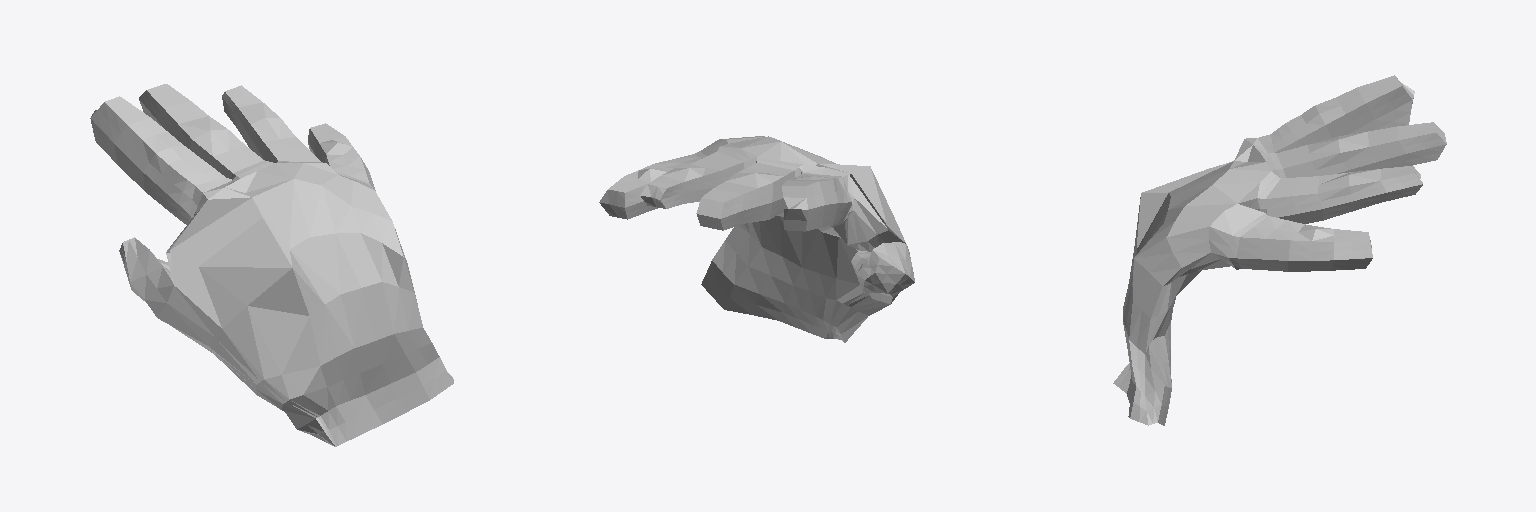
File: flexion0034.obj
3 renders of one model, left to right at view 1: azimuth 30°, elevation 25°; view 2: azimuth 150°, elevation 25°; view 3: azimuth 270°, elevation 25°, orthographic.
Visible parts, largest first — view 1: Hand; view 2: Hand; view 3: Hand.
Boxes of the visible parts, <box> form: Hand: <box>90,84,453,446</box>; Hand: <box>599,136,914,342</box>; Hand: <box>1113,75,1446,425</box>.
Size of the model in its own units: 3.27 by 3.2 by 3.59.